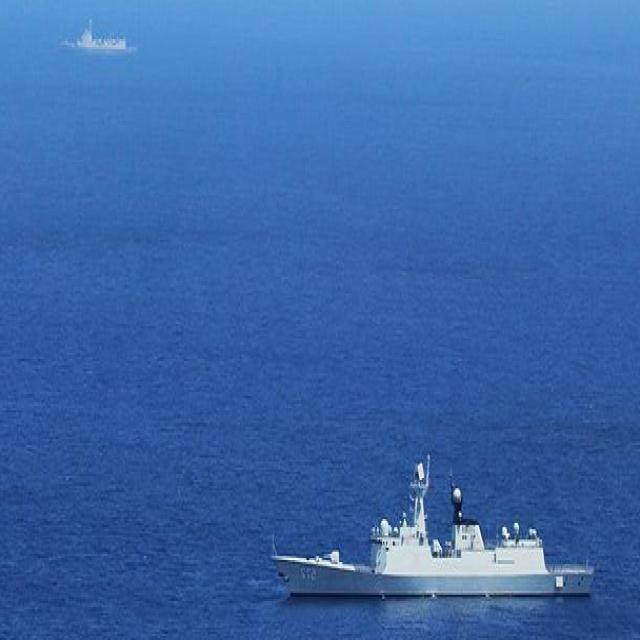navalvessels: (265, 447, 607, 608)
